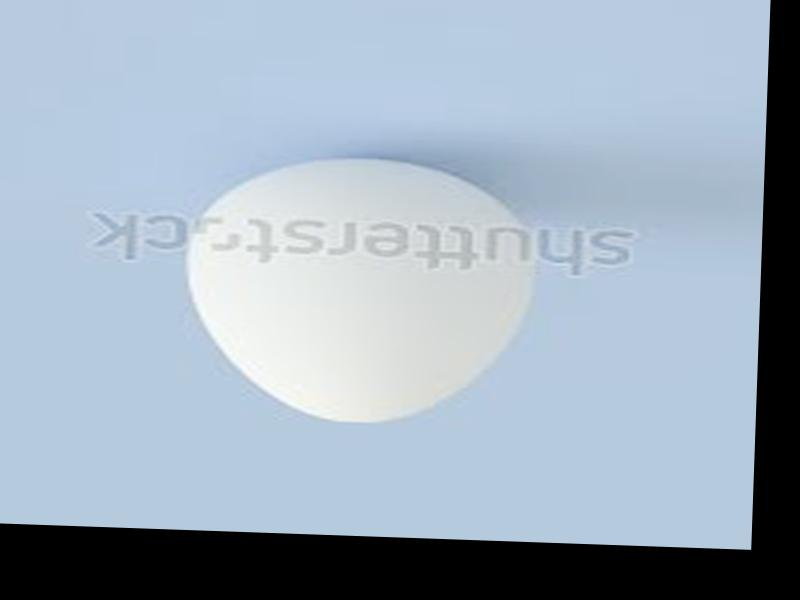Eggs: (180, 149, 539, 427)
